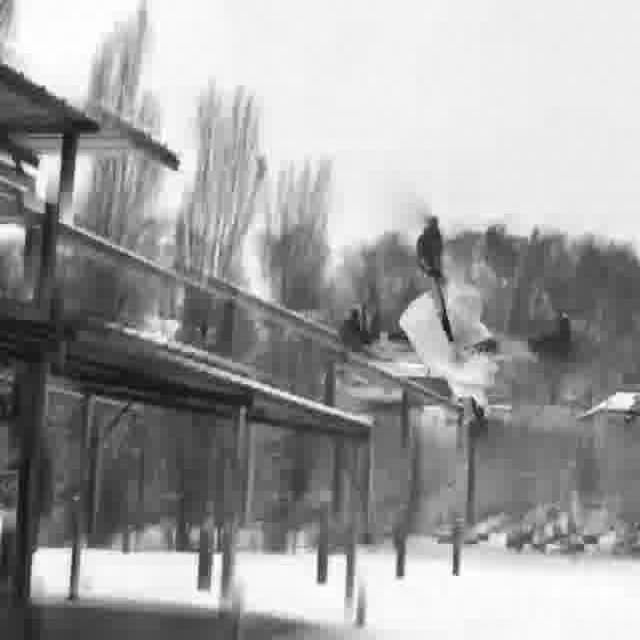drone: (306, 188, 600, 438)
